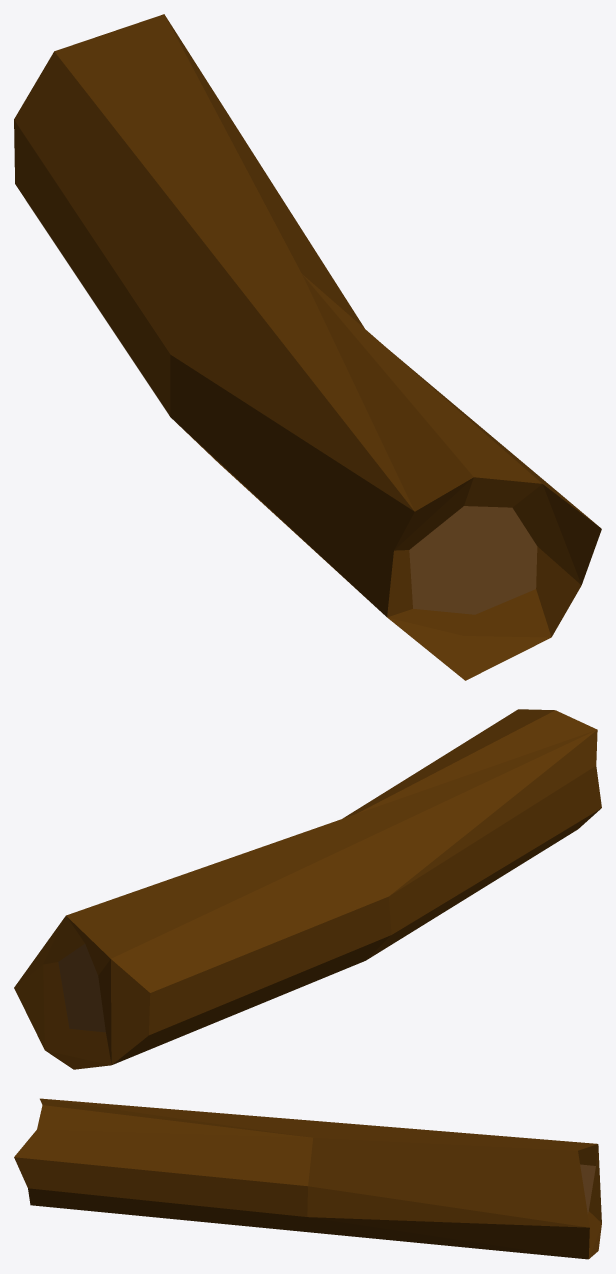
Rendered from Trunk#1.fbx.
The picture shows the model from 3 angles, top to bottom: view 1: azimuth 30°, elevation 25°; view 2: azimuth 150°, elevation 25°; view 3: azimuth 270°, elevation 25°; orthographic projection. The views are drawn at different scales.
Parts seen in each view (by area): view 1: Trunk#1; view 2: Trunk#1; view 3: Trunk#1.
Boxes of the visible parts, x1,y1,x2,y2 form: Trunk#1: [14, 14, 601, 680]; Trunk#1: [14, 709, 601, 1069]; Trunk#1: [14, 1098, 601, 1259].
Bounding box in the file's own units: 198 × 115 × 540.
